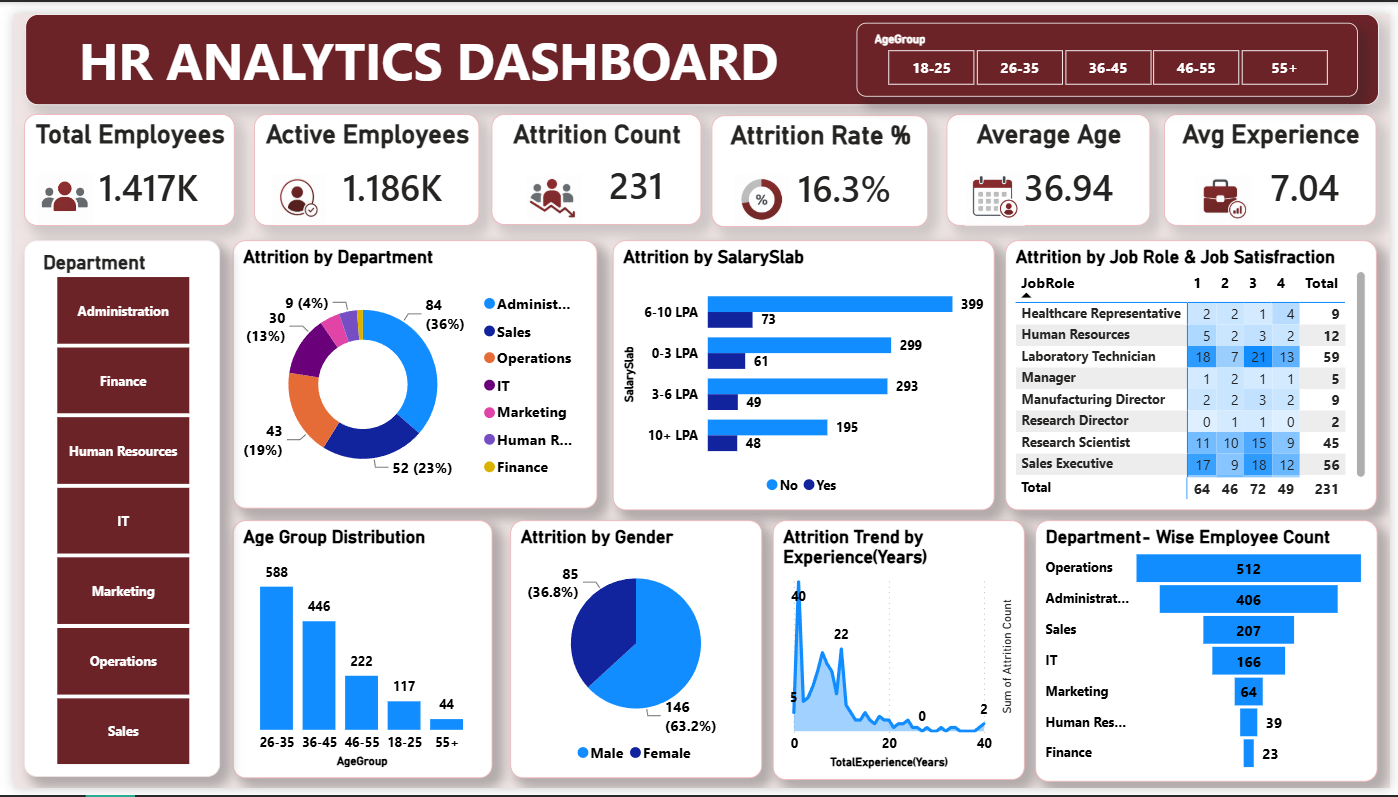

This screenshot's page, from the dashboard's own definition file:
{"tool":"powerbi","page":{"name":"Page 1","canvas":[1280,720],"ordinal":0},"visuals":[{"type":"textbox","box":[10,0,1259,85],"z":0},{"type":"cardVisual","title":"Total Employees","fields":{"Data":["CountNonNull(HR_Analytics-4.EmpID)"]},"box":[9.6,93.3,196.2,104.3],"z":1000},{"type":"cardVisual","title":"Active Employees","fields":{"Data":["CountNonNull(HR_Analytics-4.EmployeeCount)"]},"box":[223.7,93.3,209.9,104.3],"z":2000},{"type":"cardVisual","title":"Attrition Count","fields":{"Data":["Sum(HR_Analytics-4.Attrition Count)"]},"box":[444.6,93.3,194.9,102.9],"z":3000},{"type":"cardVisual","title":"Attrition Rate %","fields":{"Data":["HR_Analytics-4.Attrition Rate %"]},"box":[649.1,94.7,201.7,104.3],"z":4000},{"type":"cardVisual","title":"Average Age","fields":{"Data":["Avg(HR_Analytics-4.Age)"]},"box":[867.2,93.3,189.4,104.3],"z":5000},{"type":"cardVisual","title":"Avg Experience","fields":{"Data":["Avg(HR_Analytics-4.YearsatCompany)"]},"box":[1070.3,93.3,197.6,104.3],"z":6000},{"type":"donutChart","title":"Attrition by Department","fields":{"Category":["HR_Analytics-4.Department"],"Y":["Sum(HR_Analytics-4.Attrition Count)"]},"box":[203.1,209.9,338.9,249.7],"z":7000},{"type":"image","box":[21.2,147.1,52.9,50.6],"z":8000},{"type":"image","box":[241.2,149.4,49.4,47.1],"z":9000},{"type":"image","box":[476.5,148.2,51.8,48.2],"z":10000},{"type":"image","box":[669.4,148.2,51.8,50.6],"z":11000},{"type":"image","box":[884.7,147.1,55.3,50.6],"z":12000},{"type":"image","box":[1098.8,147.1,52.9,51.8],"z":13000},{"type":"clusteredBarChart","title":"Attrition by SalarySlab","fields":{"Category":["HR_Analytics-4.SalarySlab"],"Y":["CountNonNull(HR_Analytics-4.EmpID)"],"Series":["HR_Analytics-4.Attrition"]},"box":[557.1,209.9,355.4,251.1],"z":14000},{"type":"pivotTable","title":"Attrition by Job Role & Job Satisfraction","fields":{"Rows":["HR_Analytics-4.JobRole"],"Values":["Sum(HR_Analytics-4.Attrition Count)"],"Columns":["HR_Analytics-4.JobSatisfaction"]},"box":[922.1,209.9,345.8,251.1],"z":15000},{"type":"columnChart","title":"Age Group Distribution","fields":{"Category":["HR_Analytics-4.AgeGroup"],"Y":["Sum(HR_Analytics-4.EmployeeCount)"]},"box":[203.1,470.7,241.5,240.1],"z":16000},{"type":"pieChart","title":"Attrition by Gender","fields":{"Category":["HR_Analytics-4.Gender"],"Y":["Sum(HR_Analytics-4.Attrition Count)"]},"box":[461.1,470.7,234.6,240.1],"z":17000},{"type":"areaChart","title":"Attrition Trend by Experience(Years)","fields":{"Category":["HR_Analytics-4.TotalExperience(Years)"],"Y2":["Sum(HR_Analytics-4.Attrition Count)"]},"box":[705.3,470.7,234.6,241.5],"z":18000},{"type":"funnel","title":"Department- Wise Employee Count","fields":{"Category":["HR_Analytics-4.Department"],"Y":["CountNonNull(HR_Analytics-4.EmpID)"]},"box":[949.6,470.7,318.4,242.9],"z":19000},{"type":"slicer","fields":{"Values":["HR_Analytics-4.Department"]},"box":[9.6,209.9,182.5,499.5],"z":20000},{"type":"slicer","fields":{"Values":["HR_Analytics-4.AgeGroup"]},"box":[783.7,8.1,466.3,68.6],"z":21000}]}

Visuals, with their boxes in screenshot pixels (x1, y1, x2, y2), scaled from the page's 1280x720 canvas onto the 1398x797 screenshot:
textbox: (x1=11, y1=0, x2=1386, y2=94)
"Total Employees" cardVisual: (x1=10, y1=103, x2=225, y2=219)
"Active Employees" cardVisual: (x1=244, y1=103, x2=474, y2=219)
"Attrition Count" cardVisual: (x1=486, y1=103, x2=698, y2=217)
"Attrition Rate %" cardVisual: (x1=709, y1=105, x2=929, y2=220)
"Average Age" cardVisual: (x1=947, y1=103, x2=1154, y2=219)
"Avg Experience" cardVisual: (x1=1169, y1=103, x2=1385, y2=219)
"Attrition by Department" donutChart: (x1=222, y1=232, x2=592, y2=509)
image: (x1=23, y1=163, x2=81, y2=219)
image: (x1=263, y1=165, x2=317, y2=218)
image: (x1=520, y1=164, x2=577, y2=217)
image: (x1=731, y1=164, x2=788, y2=220)
image: (x1=966, y1=163, x2=1027, y2=219)
image: (x1=1200, y1=163, x2=1258, y2=220)
"Attrition by SalarySlab" clusteredBarChart: (x1=608, y1=232, x2=997, y2=510)
"Attrition by Job Role & Job Satisfraction" pivotTable: (x1=1007, y1=232, x2=1385, y2=510)
"Age Group Distribution" columnChart: (x1=222, y1=521, x2=486, y2=787)
"Attrition by Gender" pieChart: (x1=504, y1=521, x2=760, y2=787)
"Attrition Trend by Experience(Years)" areaChart: (x1=770, y1=521, x2=1027, y2=788)
"Department- Wise Employee Count" funnel: (x1=1037, y1=521, x2=1385, y2=790)
slicer - HR_Analytics-4.Department: (x1=10, y1=232, x2=210, y2=785)
slicer - HR_Analytics-4.AgeGroup: (x1=856, y1=9, x2=1365, y2=85)
